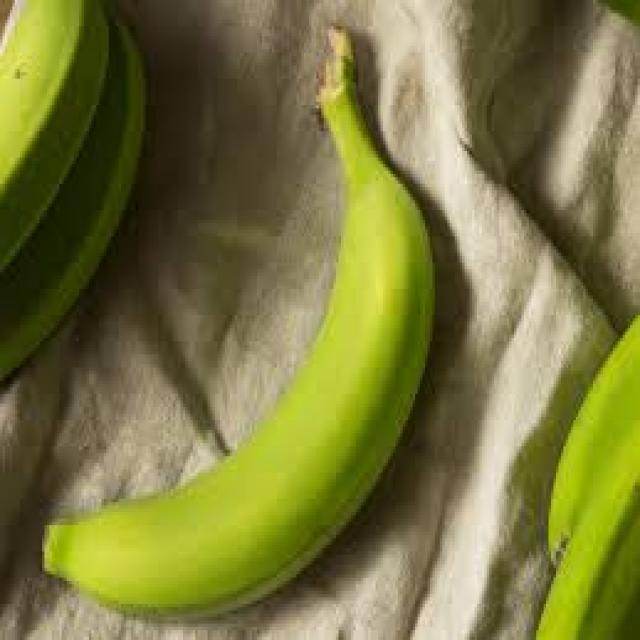non_orange: (40, 25, 436, 626)
